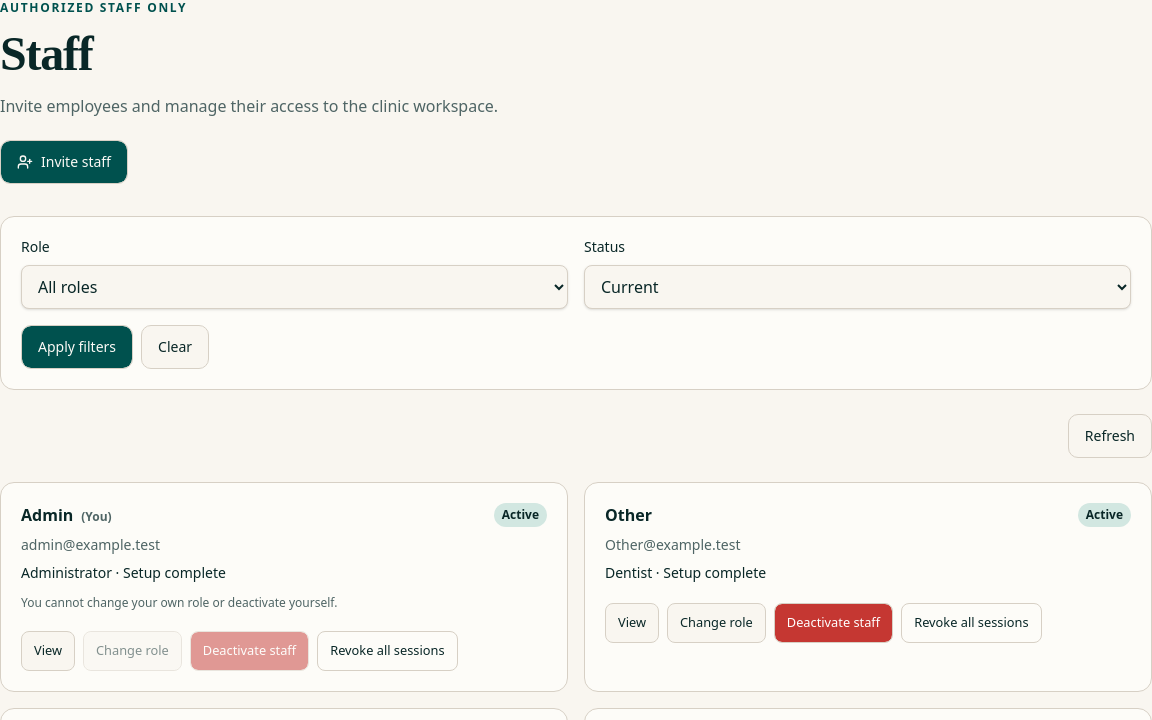
Test: admin-only team governance › does not replay an uncertain profile change or claim it succeeded
The image size is (1152, 720).
expect the heading "Other" is shown: met, box [605, 503, 652, 527]
Click the button "View" below "Other@example.test": (632, 623) [605, 603, 659, 643]
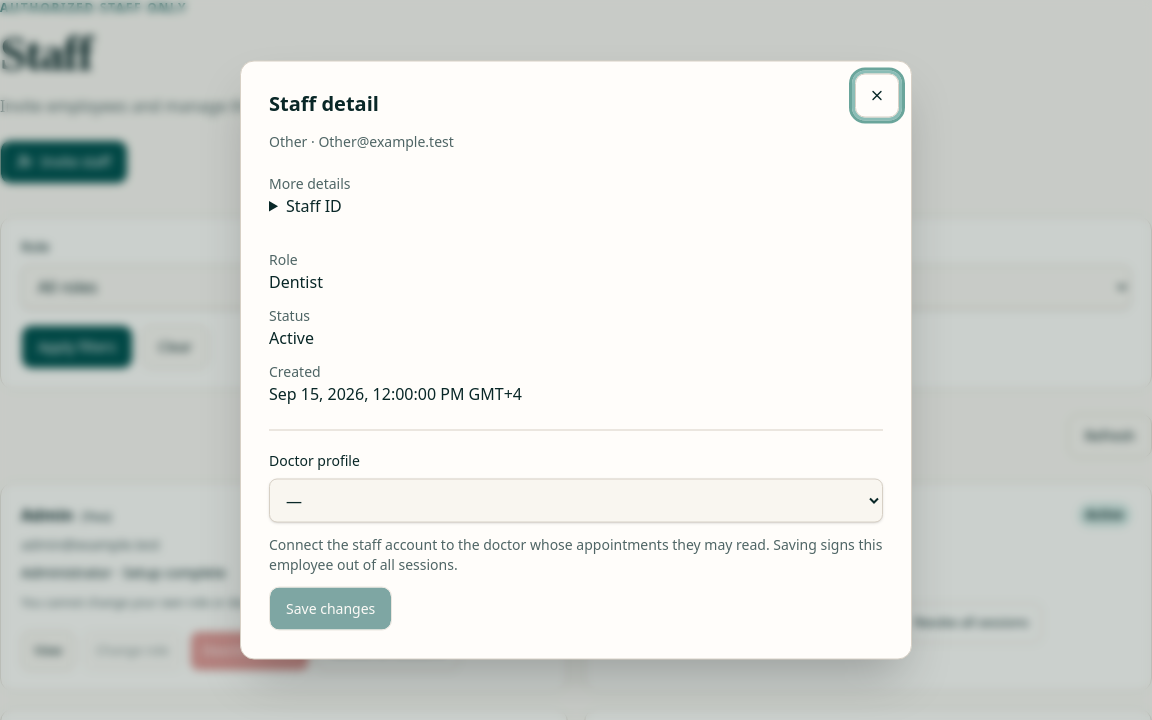
expect the dropdown labelled "Doctor profile" is enabled: met
Select "Davit Petrosyan" in the dropdown labelled "Doctor profile": (576, 500) [269, 478, 883, 522]
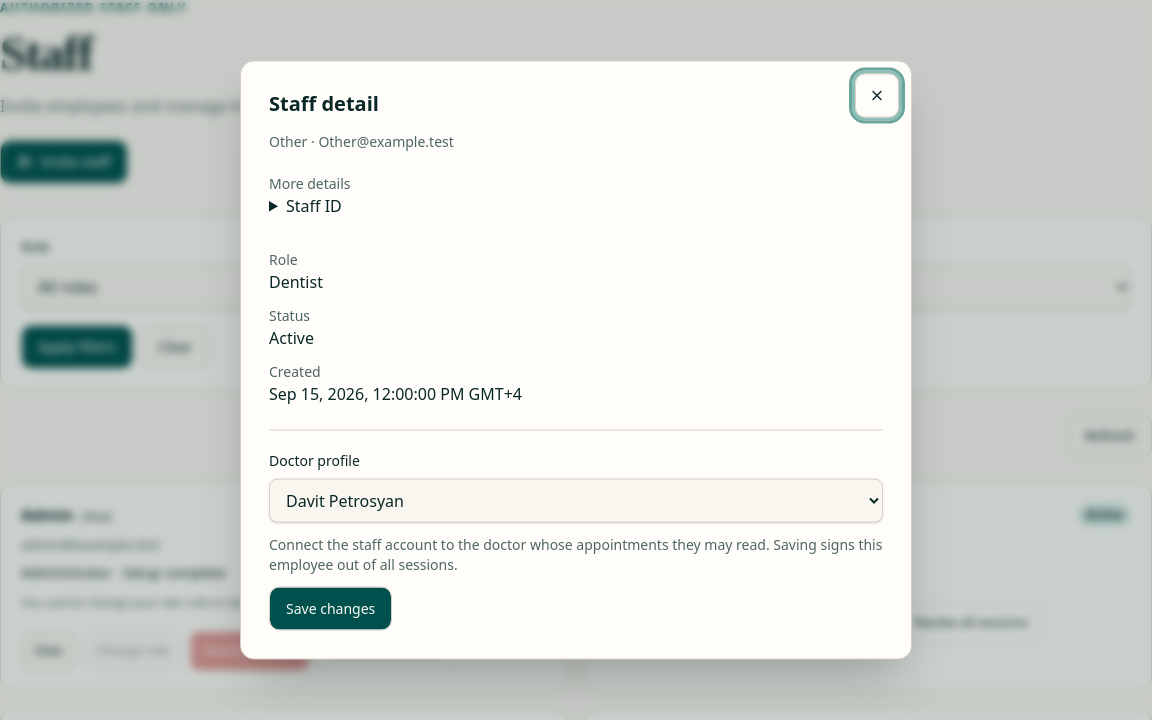
Click the button "Save changes": (331, 608) [269, 586, 392, 630]
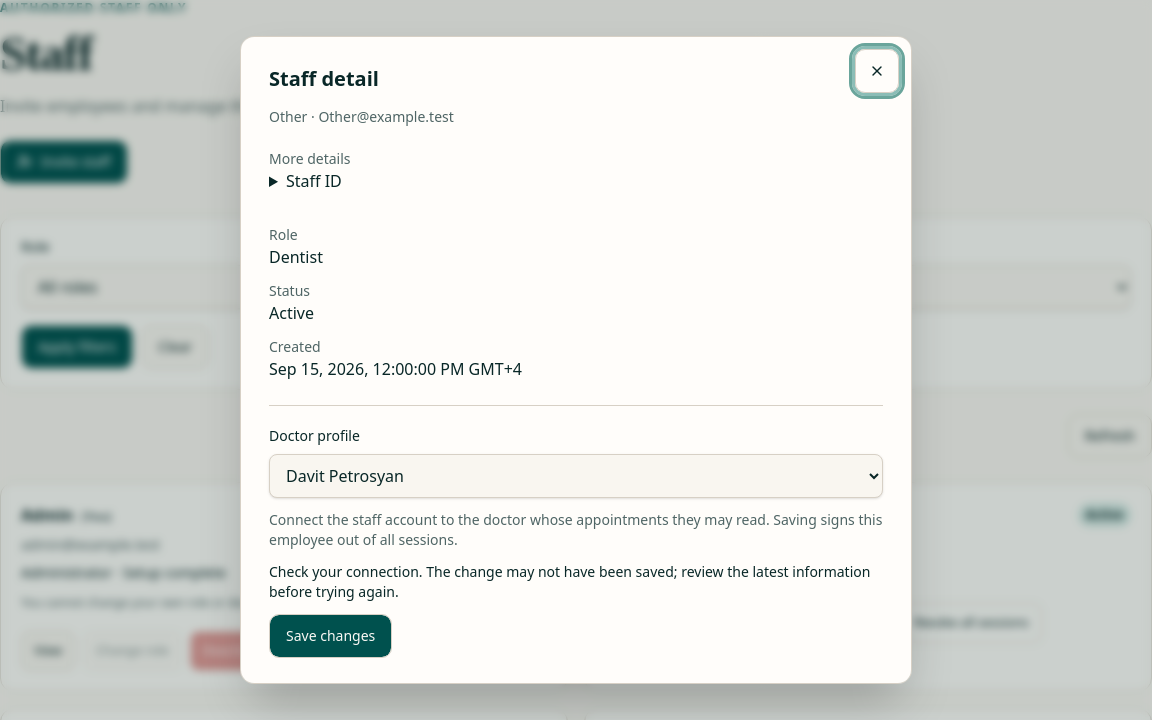
expect the text "Check your connection. The change may not have been saved; review the latest information before trying again." is shown: met, box [269, 562, 870, 601]
